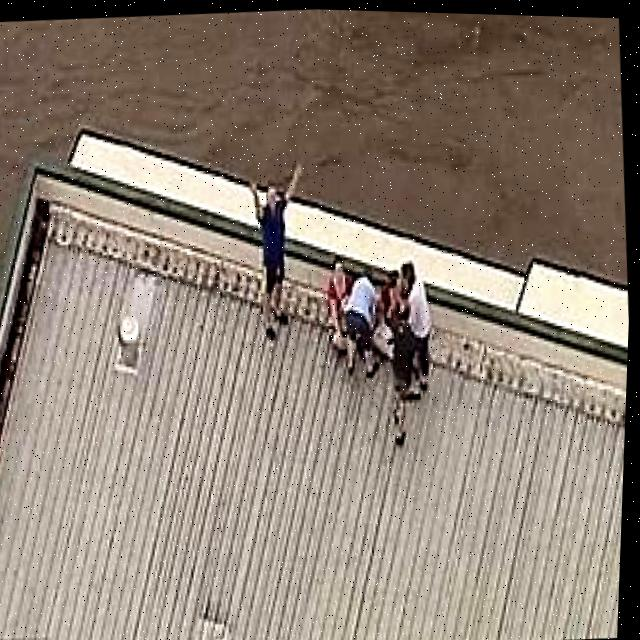civilian: (242, 157, 322, 334), (381, 270, 431, 411), (397, 249, 446, 383), (340, 259, 387, 381), (320, 247, 358, 353)
